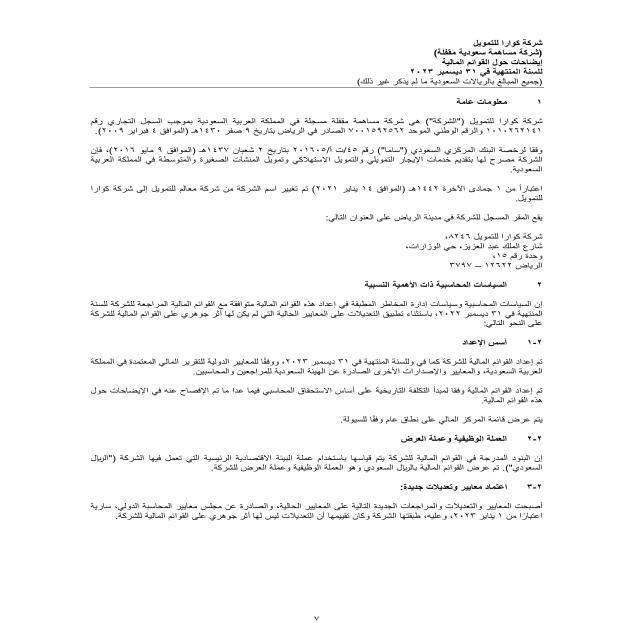notes: (434, 57, 551, 69)
text: (36, 98, 574, 554)
